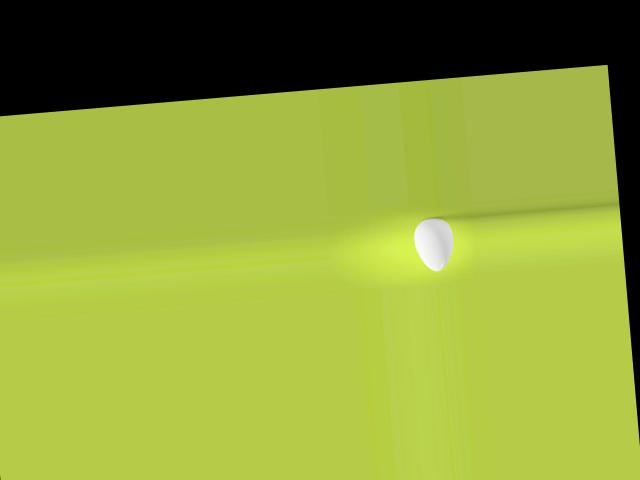egg: (413, 216, 456, 273)
